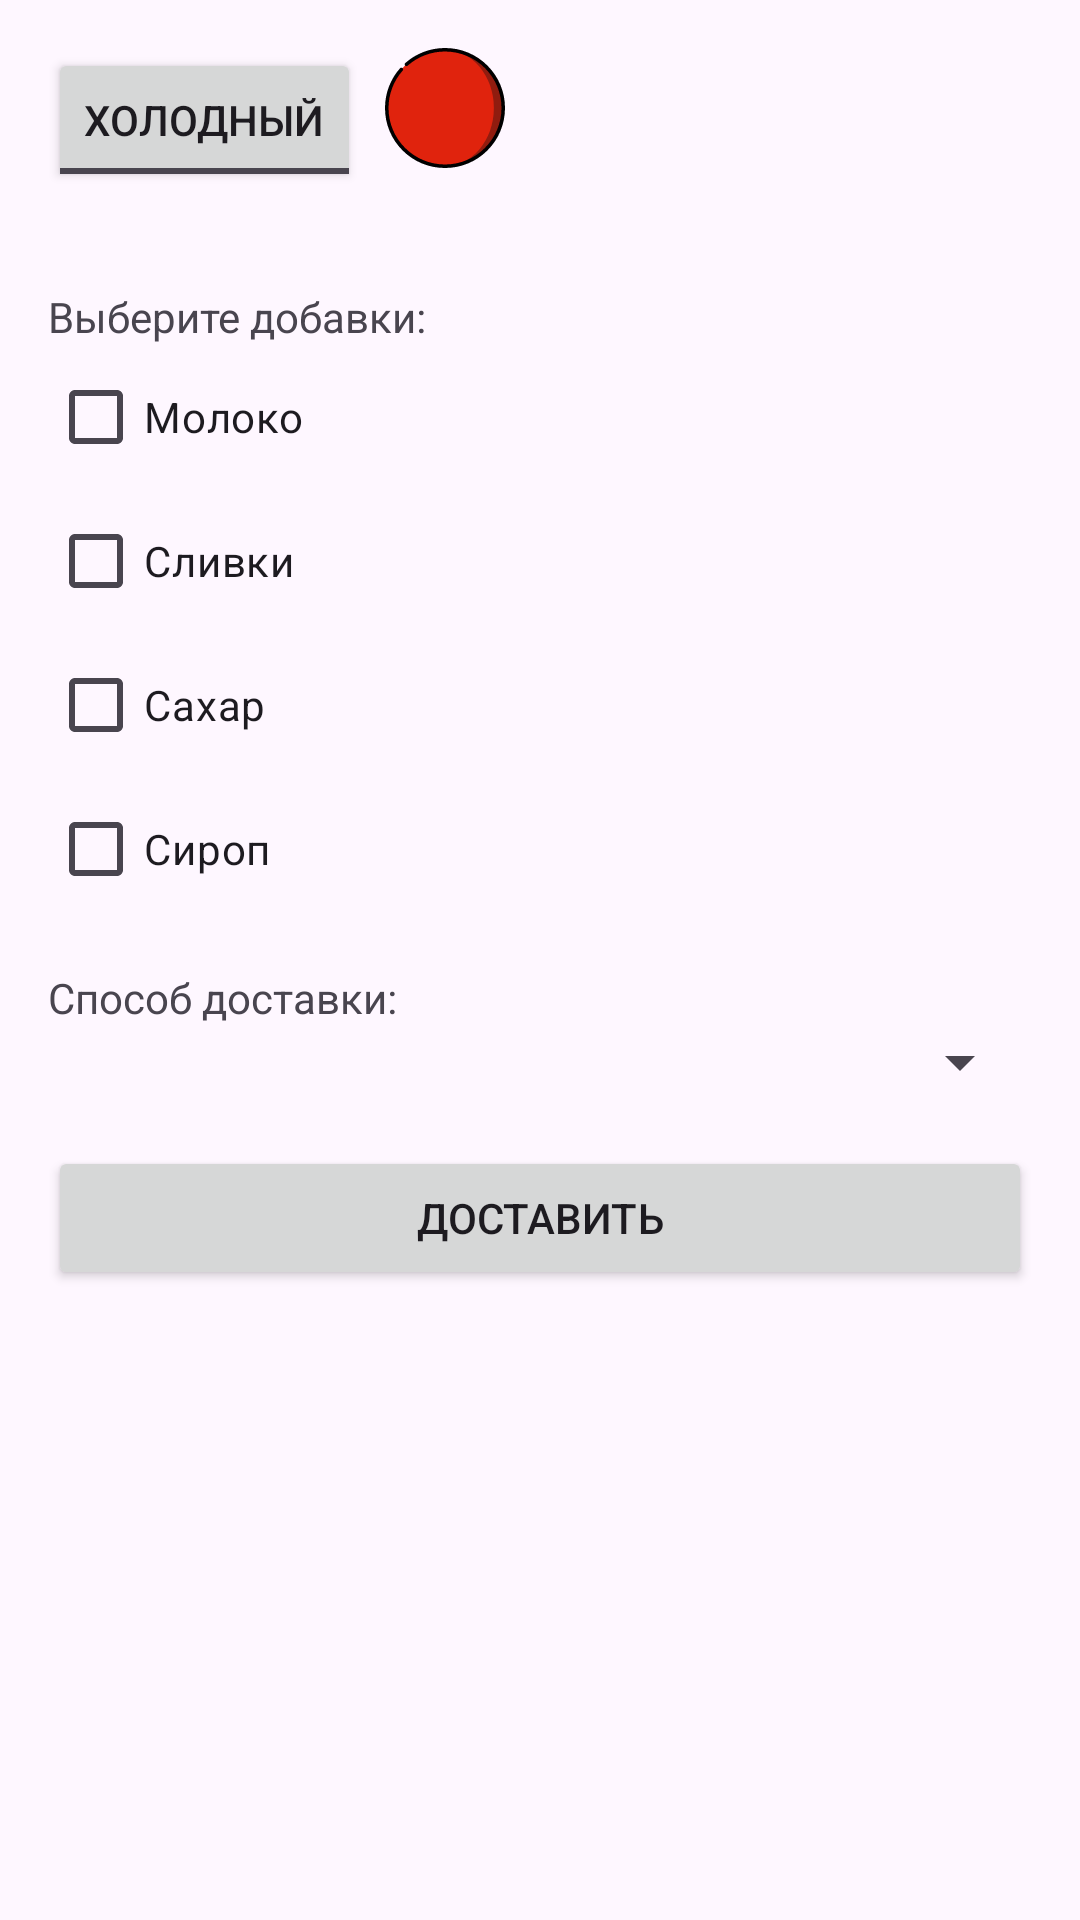

Point at icon controls on the screen. Image size 1080w x 1920h, points as [x,y].
circle: [445,108]
